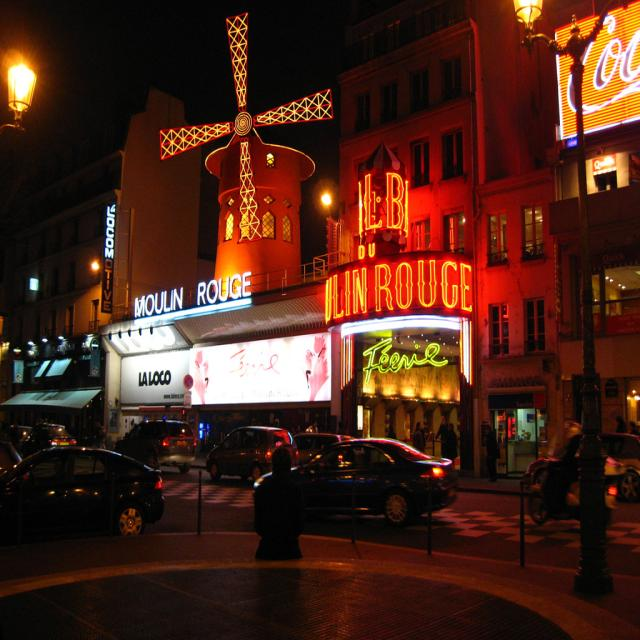Car: (265, 418, 465, 563), (0, 406, 174, 550), (139, 415, 282, 497)
